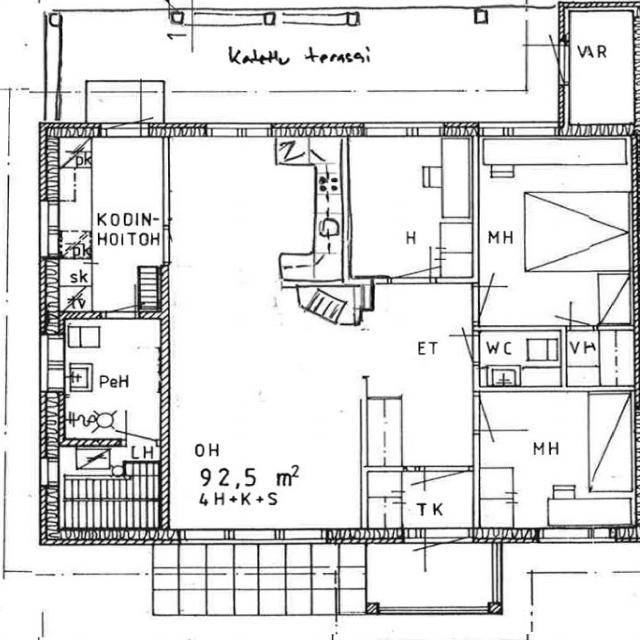door: (425, 526, 470, 582), (515, 45, 570, 82), (424, 466, 468, 509), (472, 287, 520, 322), (163, 227, 209, 262), (390, 243, 429, 284), (107, 92, 141, 138), (472, 396, 517, 430), (126, 410, 158, 446), (442, 335, 480, 362), (105, 285, 135, 319), (570, 304, 594, 331)
